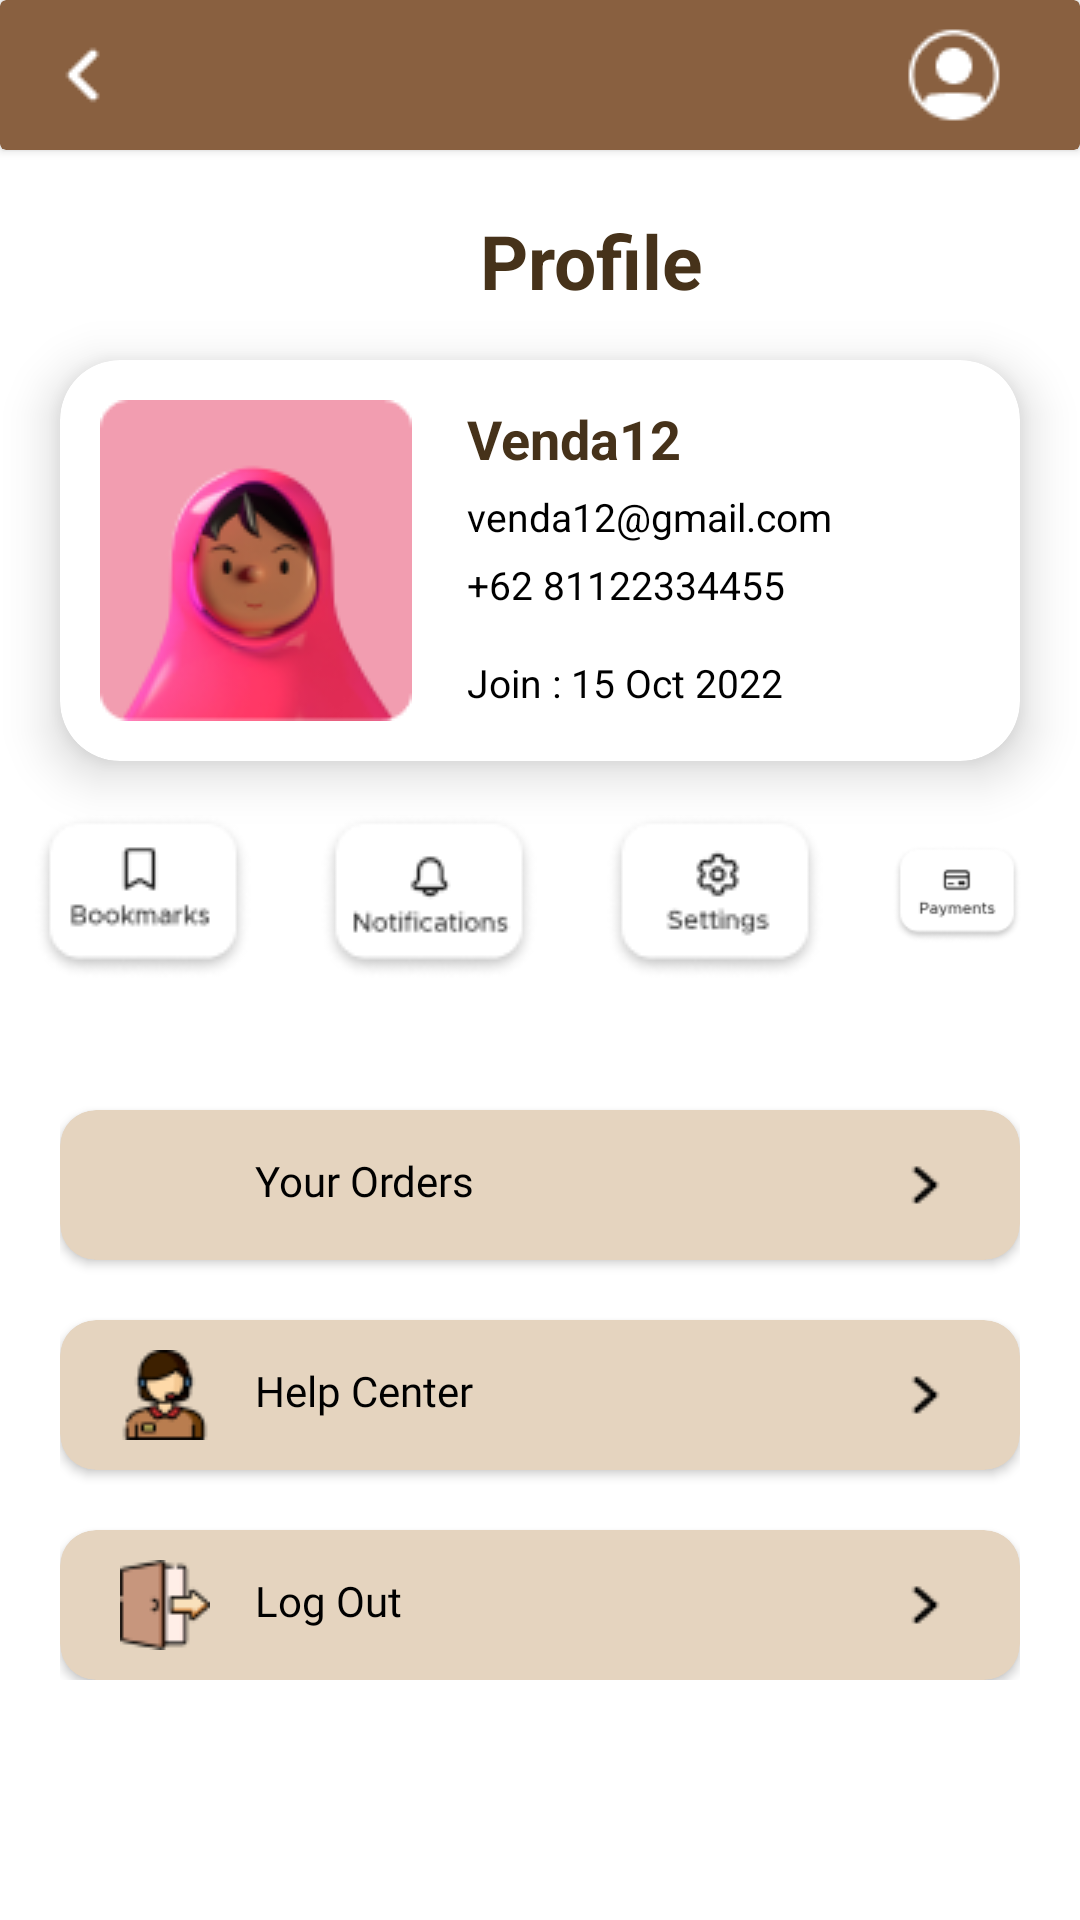

Point at icon controls on the screen. Image size 1080 × 1920, points as [x,y].
back: [83,75]
user: [954,75], [256,560]
